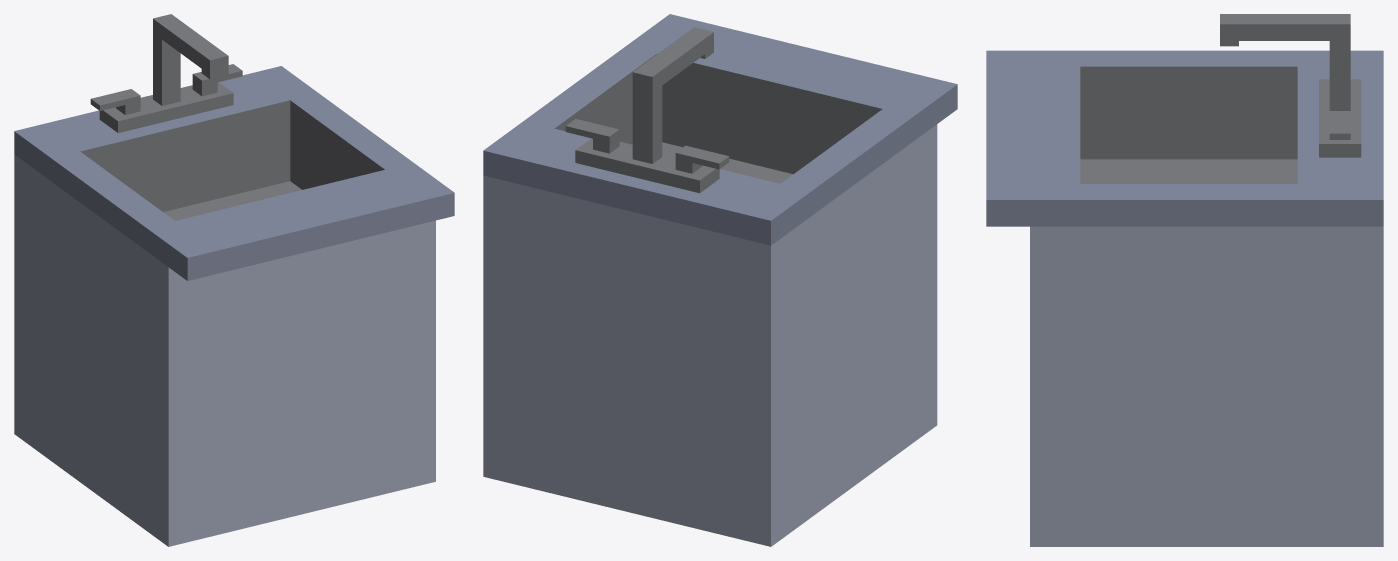
The model's file is counter-sink.fbx.
3 views of the same model, side by side, from view 1: azimuth 30°, elevation 25°; view 2: azimuth 150°, elevation 25°; view 3: azimuth 270°, elevation 25° (orthographic). The views are drawn at different scales.
Visible parts, largest first — view 1: sink; view 2: sink; view 3: sink.
Boxes of the visible parts, x1,y1,x2,y2 form: sink: [14, 14, 454, 546]; sink: [483, 14, 957, 546]; sink: [986, 14, 1383, 546].
Size of the model in its own units: 100 by 141 by 112.
